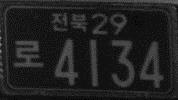1: (88, 37, 99, 89)
2: (91, 13, 108, 35)
3: (110, 39, 135, 88)
4: (138, 39, 165, 90), (53, 37, 79, 85)
9: (110, 12, 128, 36)
로: (13, 38, 43, 69)
전북_O: (50, 11, 88, 33)
